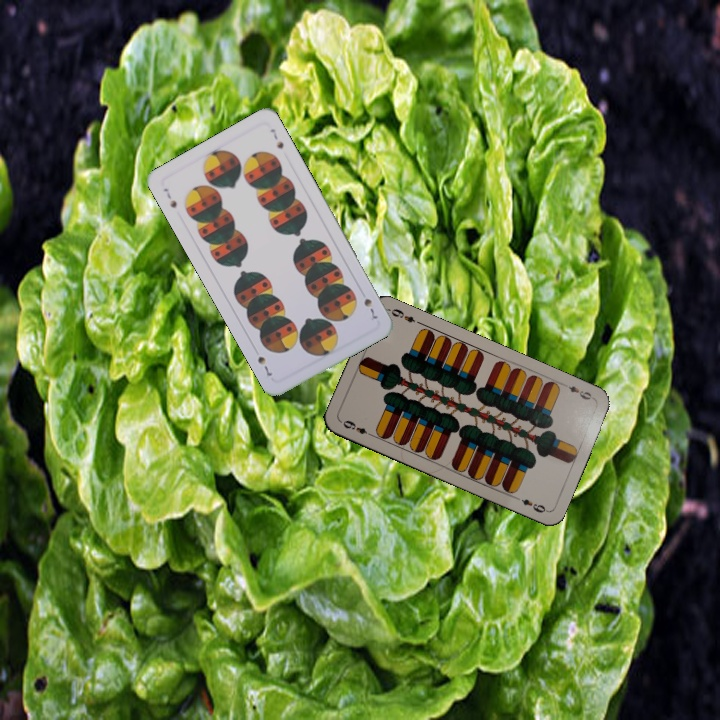E9: (559, 379, 597, 403), (339, 416, 376, 439)
S7: (159, 184, 180, 211), (360, 294, 380, 322)
